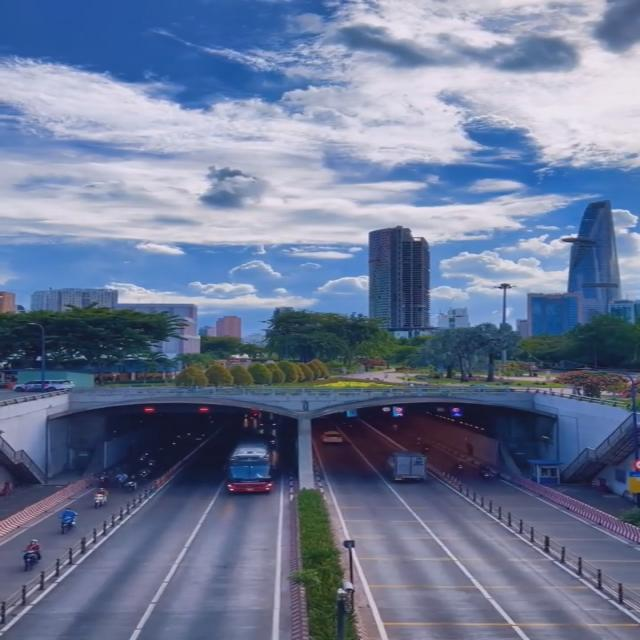bus: (226, 442, 274, 498)
motorbike: (22, 538, 44, 570), (60, 504, 79, 532), (91, 484, 107, 508), (123, 475, 138, 491), (96, 470, 110, 487), (116, 472, 126, 485)
truck: (384, 451, 428, 482)
